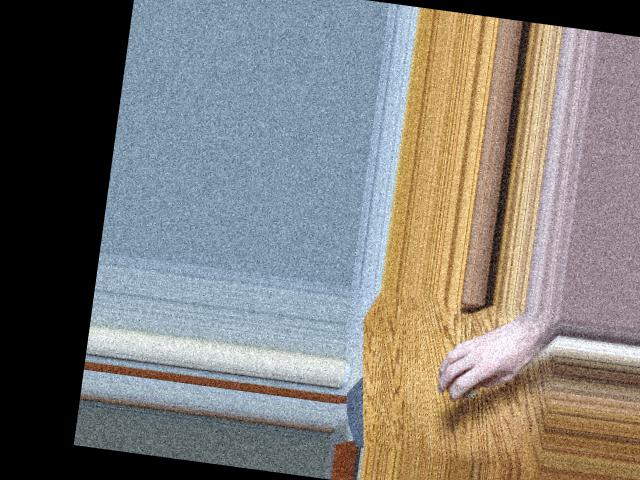onion: (443, 361, 482, 401)
